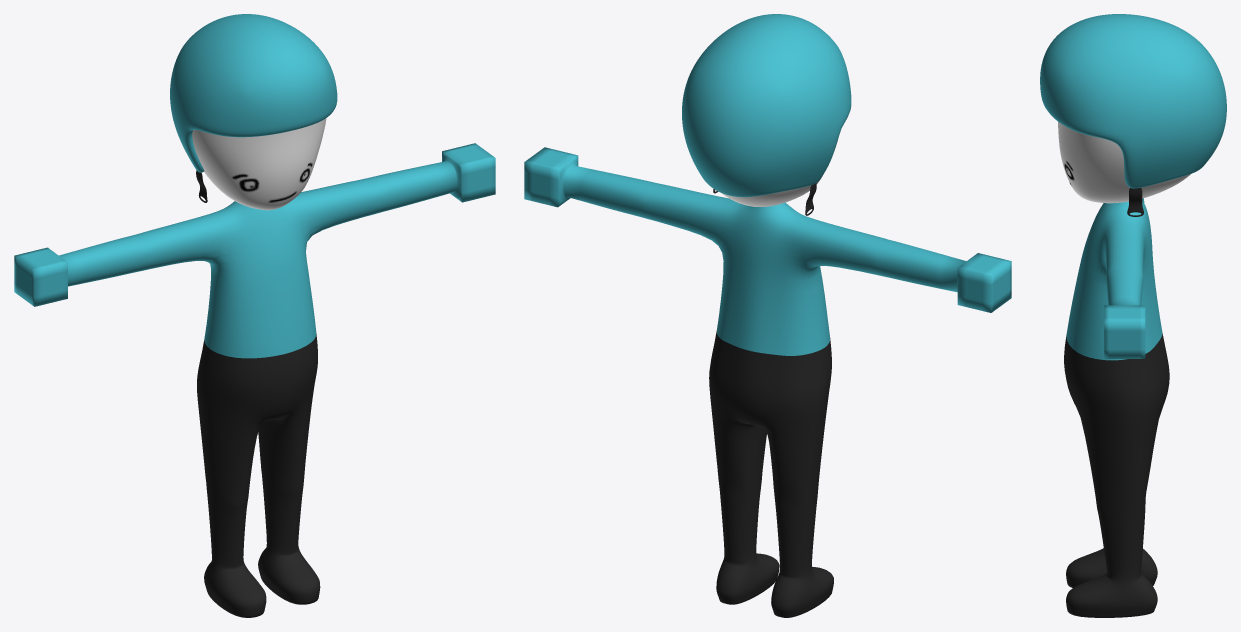
File: MiiGrabriel.fbx
3 views of the same model, side by side, from view 1: azimuth 30°, elevation 25°; view 2: azimuth 150°, elevation 25°; view 3: azimuth 270°, elevation 25° (orthographic).
Parts seen in each view (by area): view 1: Teuté.003; view 2: Teuté.003; view 3: Teuté.003.
Part boxes in pixels (x1,y1,x2,y2): Teuté.003: (14, 14, 495, 617); Teuté.003: (524, 14, 1011, 617); Teuté.003: (1040, 14, 1226, 617).
Bounding box in the file's own units: 188 × 221 × 65.01.
